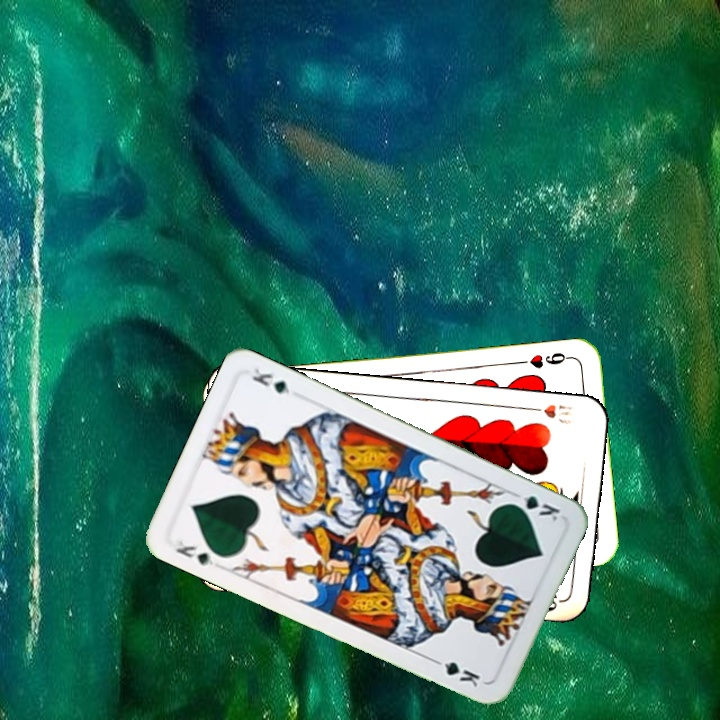GK: (505, 488, 563, 525), (171, 536, 226, 569)
H10: (523, 400, 577, 428)
H9: (516, 348, 575, 371)
